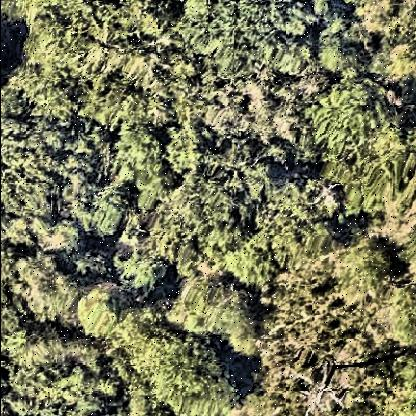tree-top: (317, 79, 407, 208), (179, 1, 301, 76), (5, 333, 113, 416), (170, 279, 280, 349), (258, 184, 331, 264), (11, 254, 75, 321), (332, 239, 396, 304), (223, 240, 278, 292), (110, 251, 170, 295)
